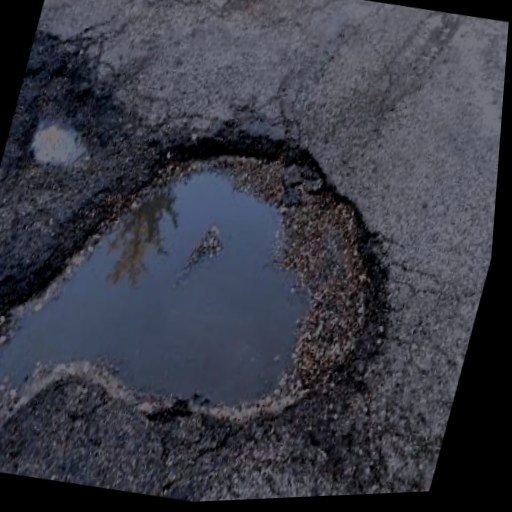pothole: (0, 79, 442, 469), (0, 44, 128, 184)
